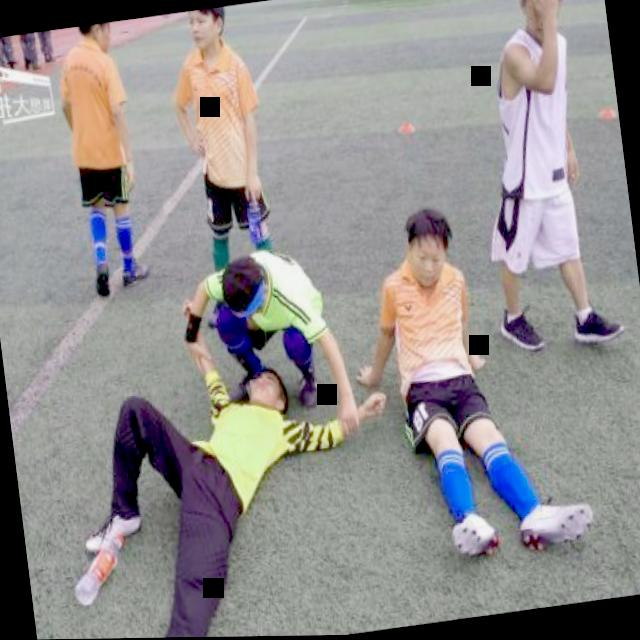Fall-Detected: (34, 330, 386, 640)
